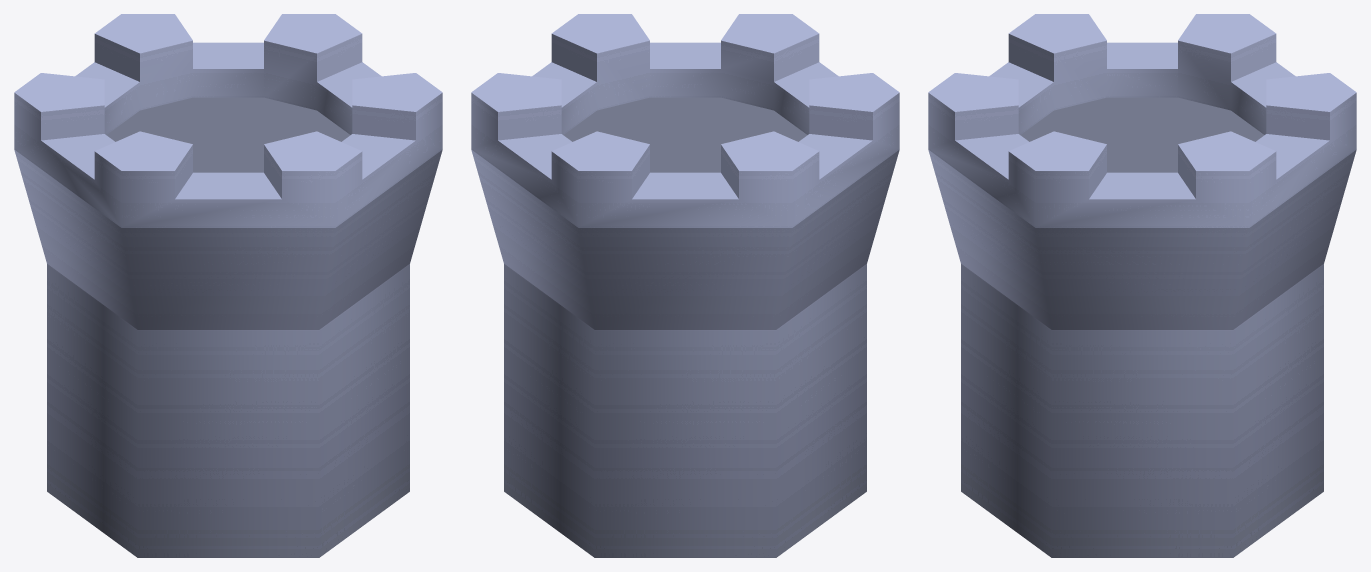
The model's file is unit-wall-tower.glb.
3 renders of one model, left to right at view 1: azimuth 30°, elevation 25°; view 2: azimuth 150°, elevation 25°; view 3: azimuth 270°, elevation 25°, orthographic.
Parts seen in each view (by area): view 1: unit-wall-tower; view 2: unit-wall-tower; view 3: unit-wall-tower.
Boxes of the visible parts, left/top/right/bottom form: unit-wall-tower: left=14, top=14, right=442, bottom=557; unit-wall-tower: left=471, top=14, right=899, bottom=557; unit-wall-tower: left=928, top=14, right=1356, bottom=557.
Size of the model in its own units: 0.295 by 0.35 by 0.3406.
Materials: 1 (1 with a texture image).
